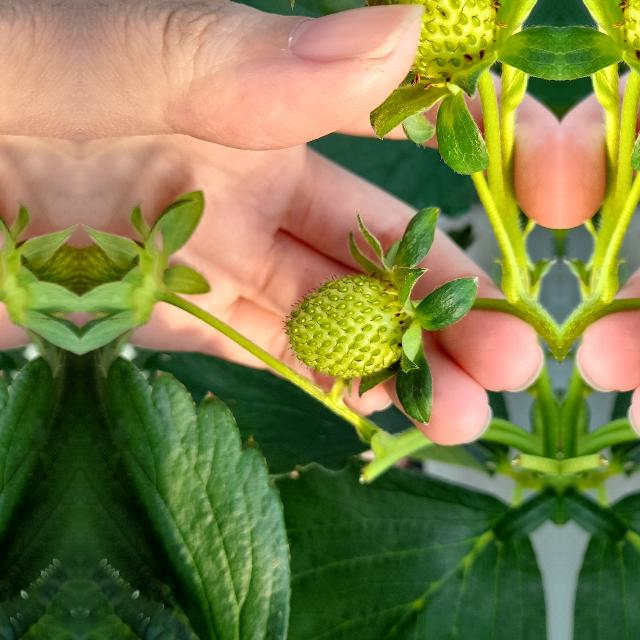Health_25: (286, 274, 404, 380), (372, 0, 502, 76)
